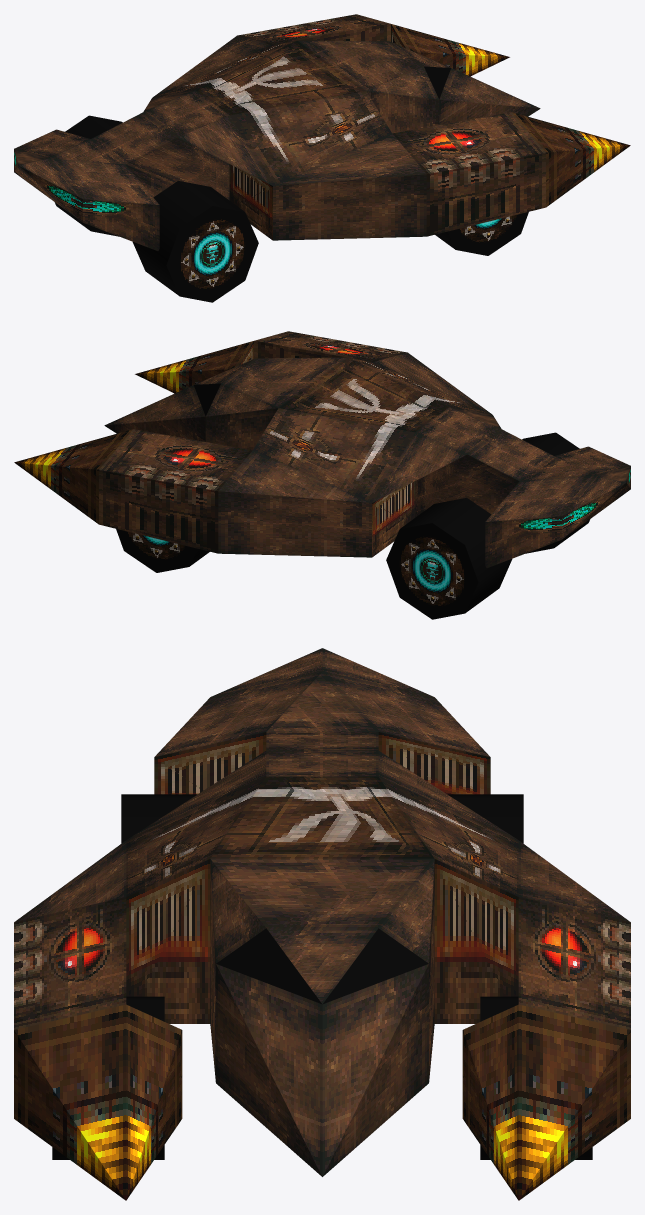
The model's file is Scorp.glb.
3 renders of one model, top to bottom at view 1: azimuth 30°, elevation 25°; view 2: azimuth 150°, elevation 25°; view 3: azimuth 270°, elevation 25°, orthographic. The views are drawn at different scales.
Visible parts, largest first — view 1: ChassisSR0, WheelRR, WheelFR, WheelRL; view 2: ChassisSR0, WheelRL, WheelFL, WheelRR; view 3: ChassisSR0, WheelRR, WheelRL, WheelFR, WheelFL.
Part boxes in pixels (x1=…): ChassisSR0: x1=14, y1=14, x2=630, y2=250; WheelRR: x1=132, y1=180, x2=258, y2=302; WheelFR: x1=435, y1=212, x2=528, y2=255; WheelRL: x1=55, y1=115, x2=122, y2=236; ChassisSR0: x1=14, y1=331, x2=630, y2=567; WheelRL: x1=386, y1=497, x2=512, y2=619; WheelFL: x1=116, y1=529, x2=209, y2=572; WheelRR: x1=522, y1=432, x2=589, y2=553; ChassisSR0: x1=14, y1=648, x2=630, y2=1200; WheelRR: x1=121, y1=794, x2=197, y2=843; WheelRL: x1=447, y1=794, x2=523, y2=843; WheelFR: x1=52, y1=996, x2=164, y2=1159; WheelFL: x1=480, y1=996, x2=592, y2=1159.
Size of the model in its own units: 7.4 by 1.89 by 4.4.
4 materials, 3 textured.
